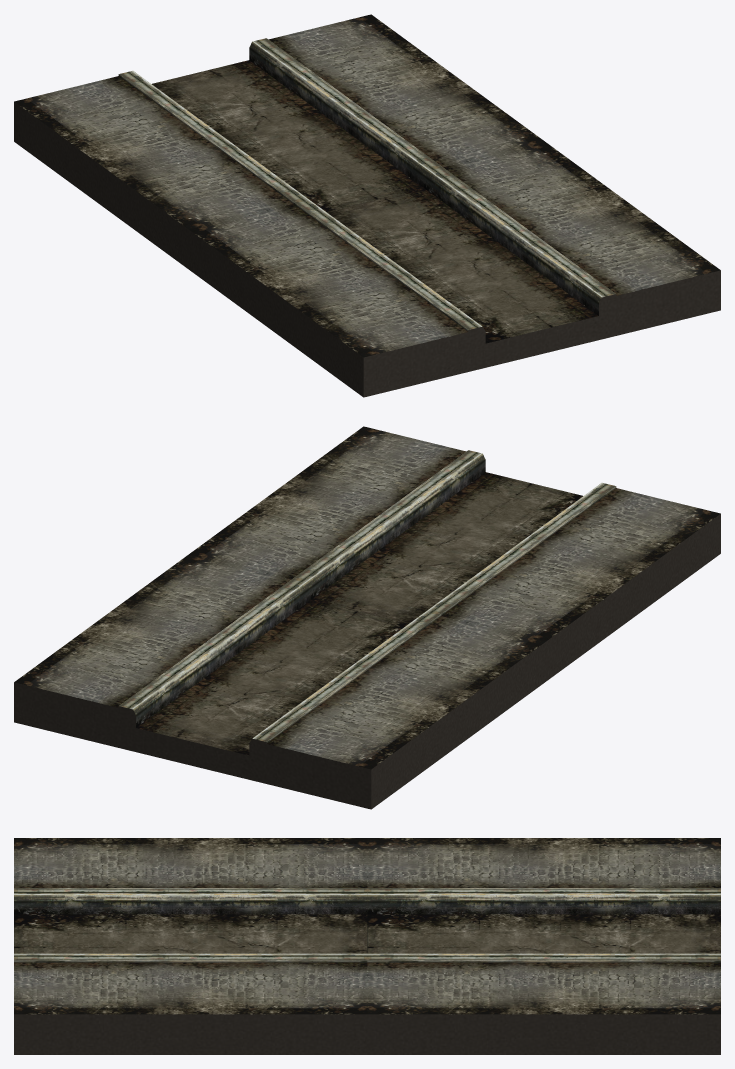
Rendered from floor single long.FBX.
The picture shows the model from 3 angles, top to bottom: view 1: azimuth 30°, elevation 25°; view 2: azimuth 150°, elevation 25°; view 3: azimuth 270°, elevation 25°; orthographic projection.
Parts seen in each view (by area): view 1: sewer floor long; view 2: sewer floor long; view 3: sewer floor long.
Boxes of the visible parts, x1,y1,x2,y2 form: sewer floor long: (14, 14, 720, 397); sewer floor long: (14, 426, 720, 809); sewer floor long: (14, 838, 720, 1054).
Bounding box in the file's own units: 1708 × 192 × 2895.
